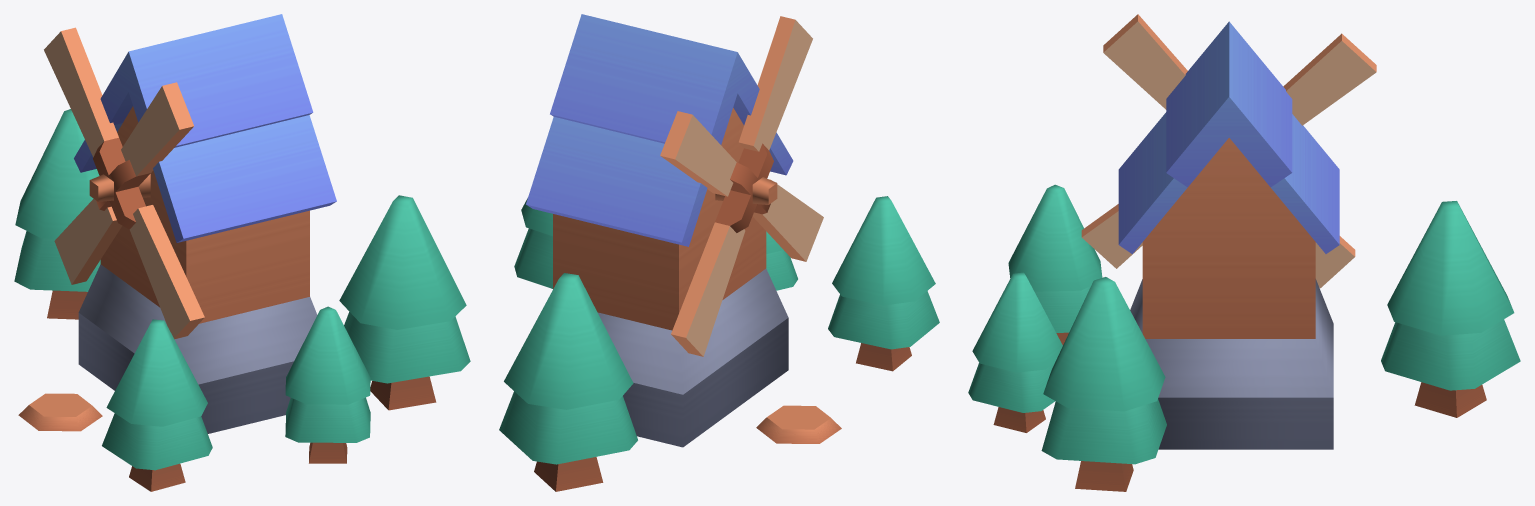
Rendered from mill.fbx.
3 views of the same model, side by side, from view 1: azimuth 30°, elevation 25°; view 2: azimuth 150°, elevation 25°; view 3: azimuth 270°, elevation 25° (orthographic).
Visible parts, largest first — view 1: building_mill, rotate_x; view 2: building_mill, rotate_x; view 3: building_mill, rotate_x.
Part boxes in pixels (<box>): building_mill: <box>14,14,470,491</box>; rotate_x: <box>44,27,204,339</box>; building_mill: <box>499,14,939,491</box>; rotate_x: <box>660,16,823,356</box>; building_mill: <box>968,21,1520,491</box>; rotate_x: <box>1081,14,1376,288</box>.
Size of the model in its own units: 73.67 by 68.11 by 95.96.
